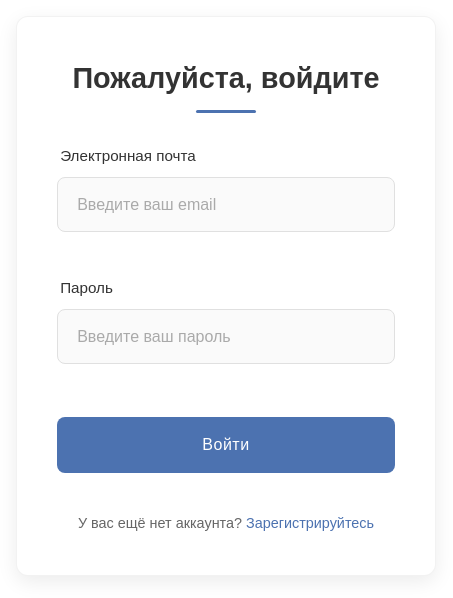
it: LoginForm › Shows validation errors when fields are empty
Click the button with test id "login-button" at (226, 445), box [57,417,395,473]
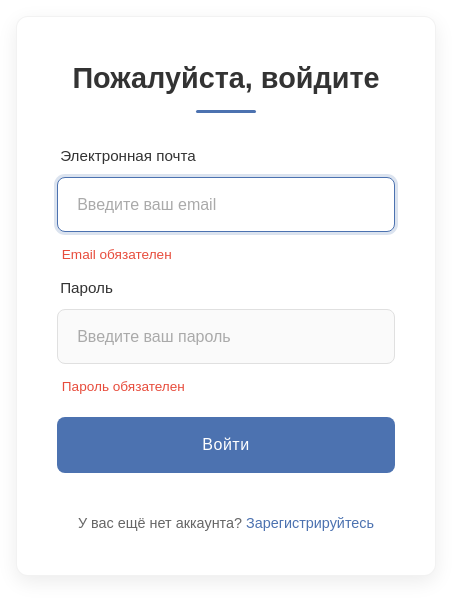
Expected: the text "Email обязателен" is shown, [62,247,172,262]
Expected: the text "Пароль обязателен" is shown, [62,379,185,394]
